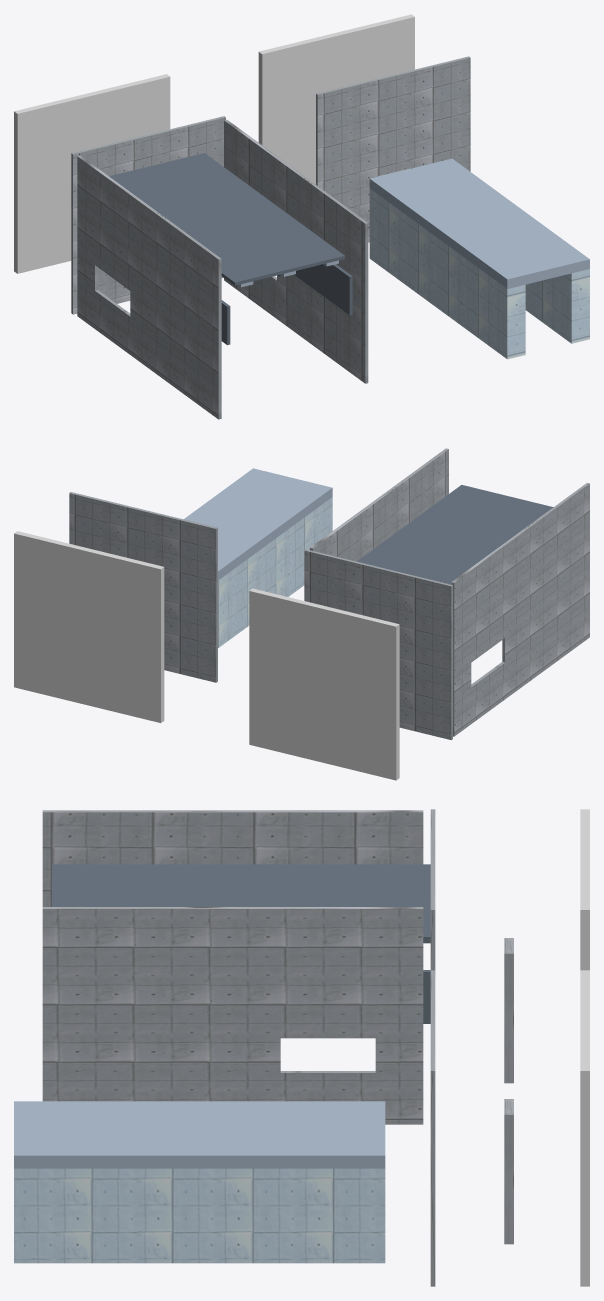
The model's file is room+alley.fbx.
3 views of the same model, one above another, from view 1: azimuth 30°, elevation 25°; view 2: azimuth 150°, elevation 25°; view 3: azimuth 270°, elevation 25° (orthographic). The views are drawn at different scales.
Visible parts, largest first — view 1: sideWall, backWall.001, backWhiteWall, wall, ceiling, ceiling.001, backWhiteWall.001, backWall, hangingPlane; view 2: sideWall, backWhiteWall, backWhiteWall.001, backWall.001, backWall, ceiling, ceiling.001, wall; view 3: sideWall, wall, ceiling.001, ceiling, backWhiteWall.001, backWall.001, backWhiteWall, weirdWall, weirdWall.001, backWall.
Boxes of the visible parts, x1,y1,x2,y2 form: sideWall: (77, 119, 368, 419); backWall.001: (316, 56, 470, 242); backWhiteWall: (14, 74, 170, 273); wall: (369, 188, 589, 359); ceiling: (109, 153, 344, 285); ceiling.001: (369, 158, 589, 288); backWhiteWall.001: (258, 14, 414, 184); backWall: (71, 116, 225, 314); hangingPlane: (221, 264, 352, 345); sideWall: (310, 448, 589, 736); backWhiteWall: (249, 588, 399, 780); backWhiteWall.001: (14, 531, 164, 722); backWall.001: (69, 492, 217, 682); backWall: (304, 549, 452, 740); ceiling: (357, 485, 553, 584); ceiling.001: (184, 468, 332, 580); wall: (218, 497, 332, 647); sideWall: (42, 810, 423, 1124); wall: (14, 1168, 385, 1263); ceiling.001: (14, 1101, 385, 1168); ceiling: (52, 864, 430, 941); backWhiteWall.001: (580, 970, 589, 1286); backWall.001: (430, 970, 435, 1286); backWhiteWall: (580, 809, 589, 970); weirdWall: (504, 938, 513, 1083); weirdWall.001: (504, 1099, 513, 1244); backWall: (430, 809, 435, 970).
Size of the model in its own units: 1300 by 500 by 1210.
6 materials, 2 textured.
